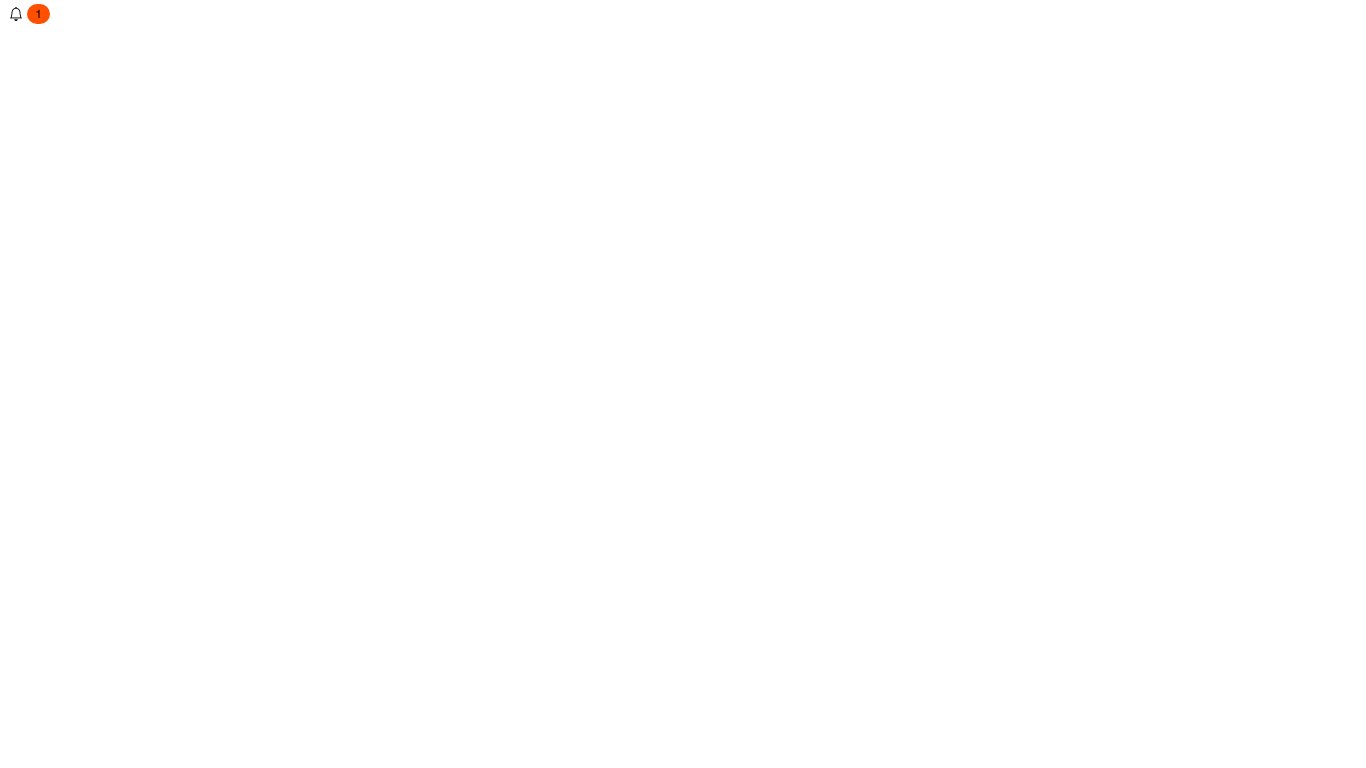
UpdatesBell › clears every update after confirming, and keeps them if you go back
Click the button named "Updates, 1 new" at (29, 16), box [0,0,59,31]
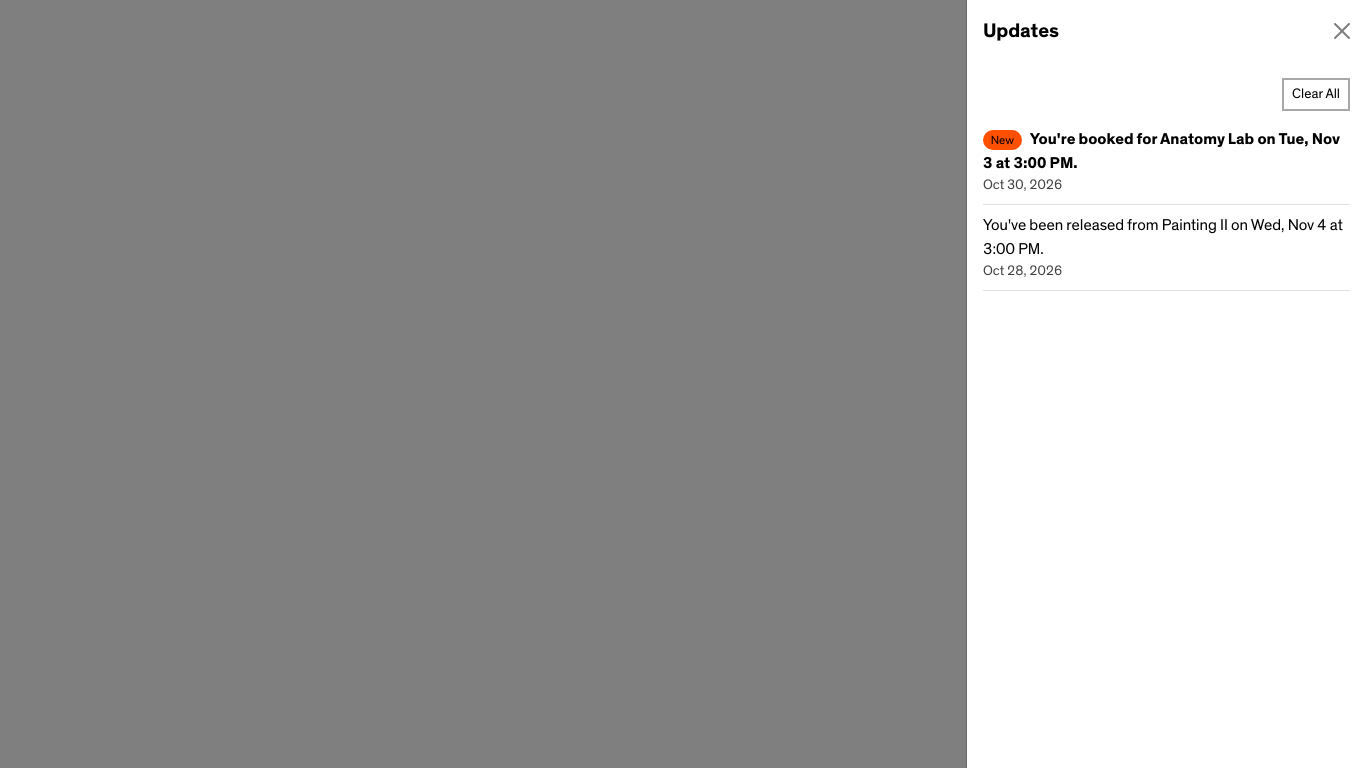
Click the button "Clear All" at (1316, 94), box [1282,78,1350,111]
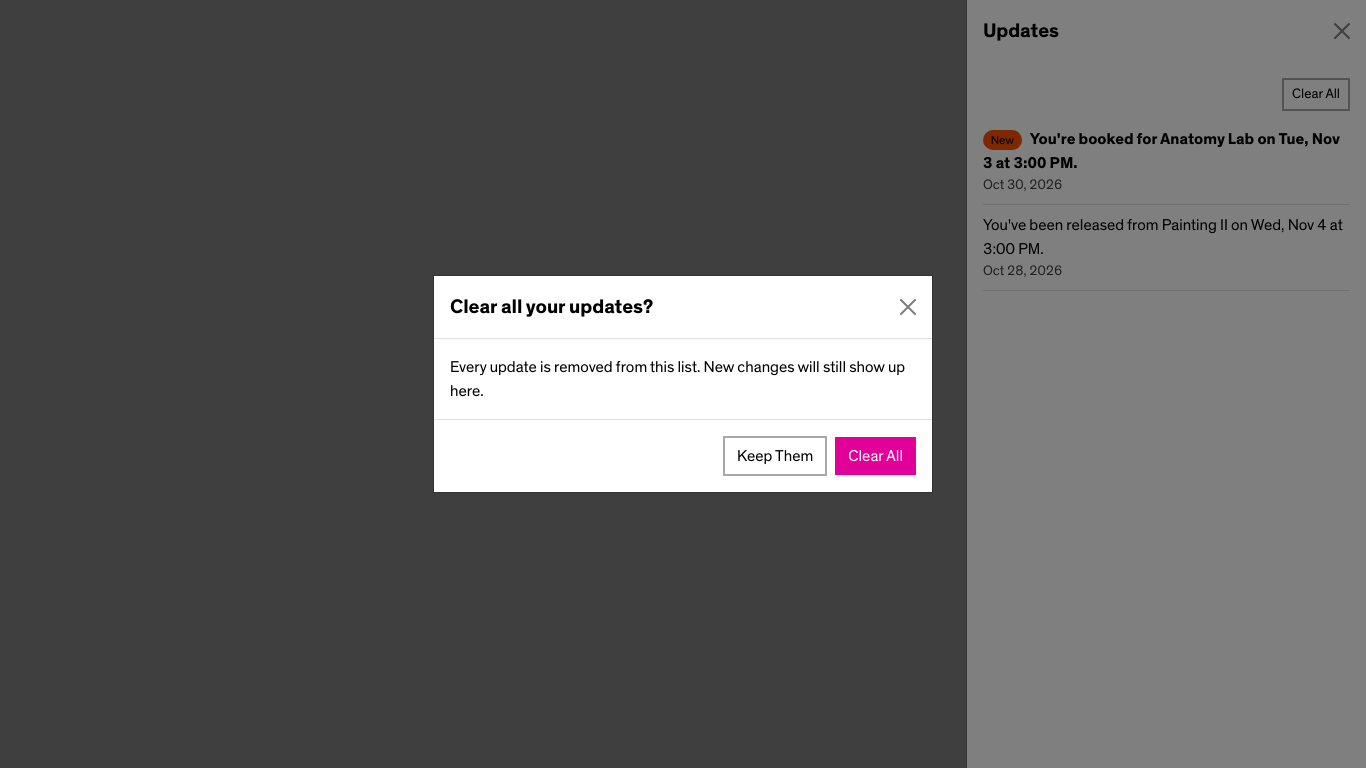
Click the button "Keep Them" at (775, 456), box [723,436,827,476]
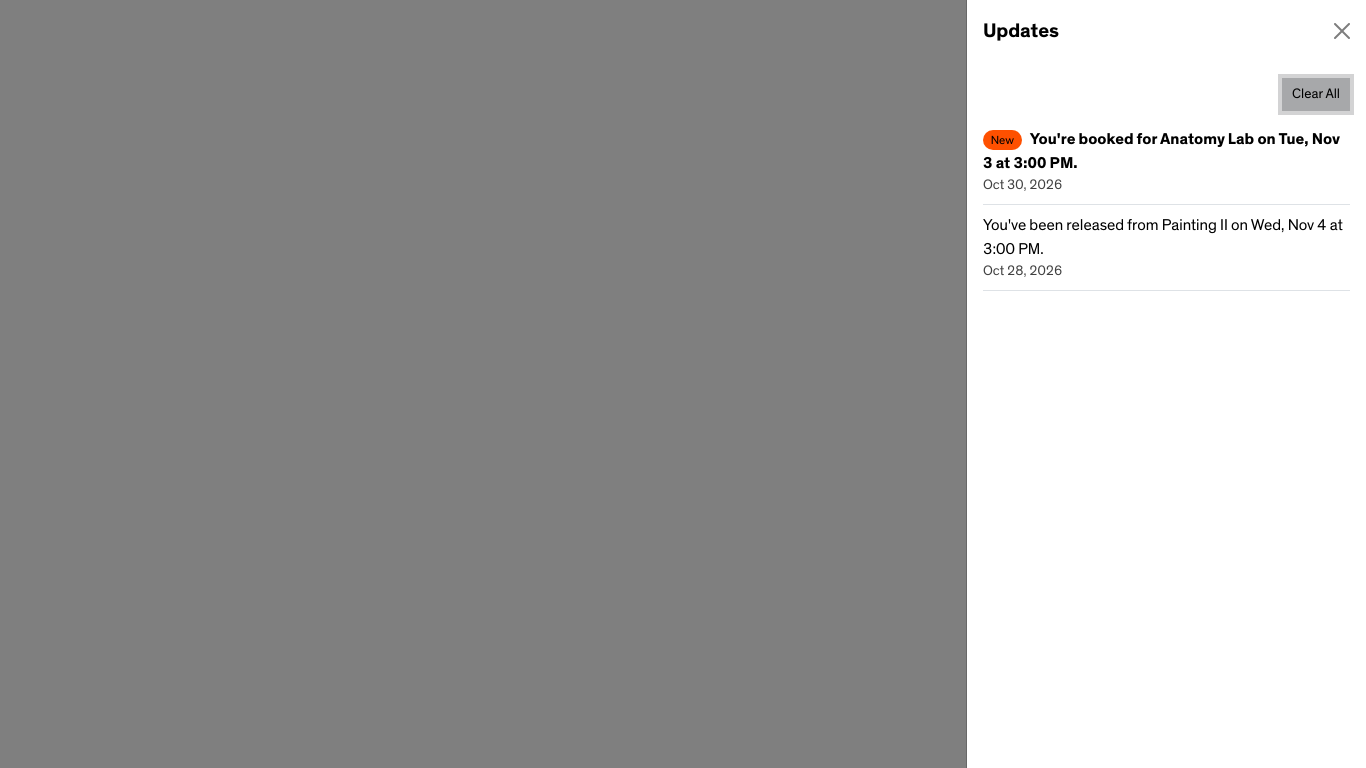
Check: the number of list items is 2, box [983,119,1350,205]; [983,205,1350,291]
Click the button "Clear All" at (1316, 94), box [1282,78,1350,111]
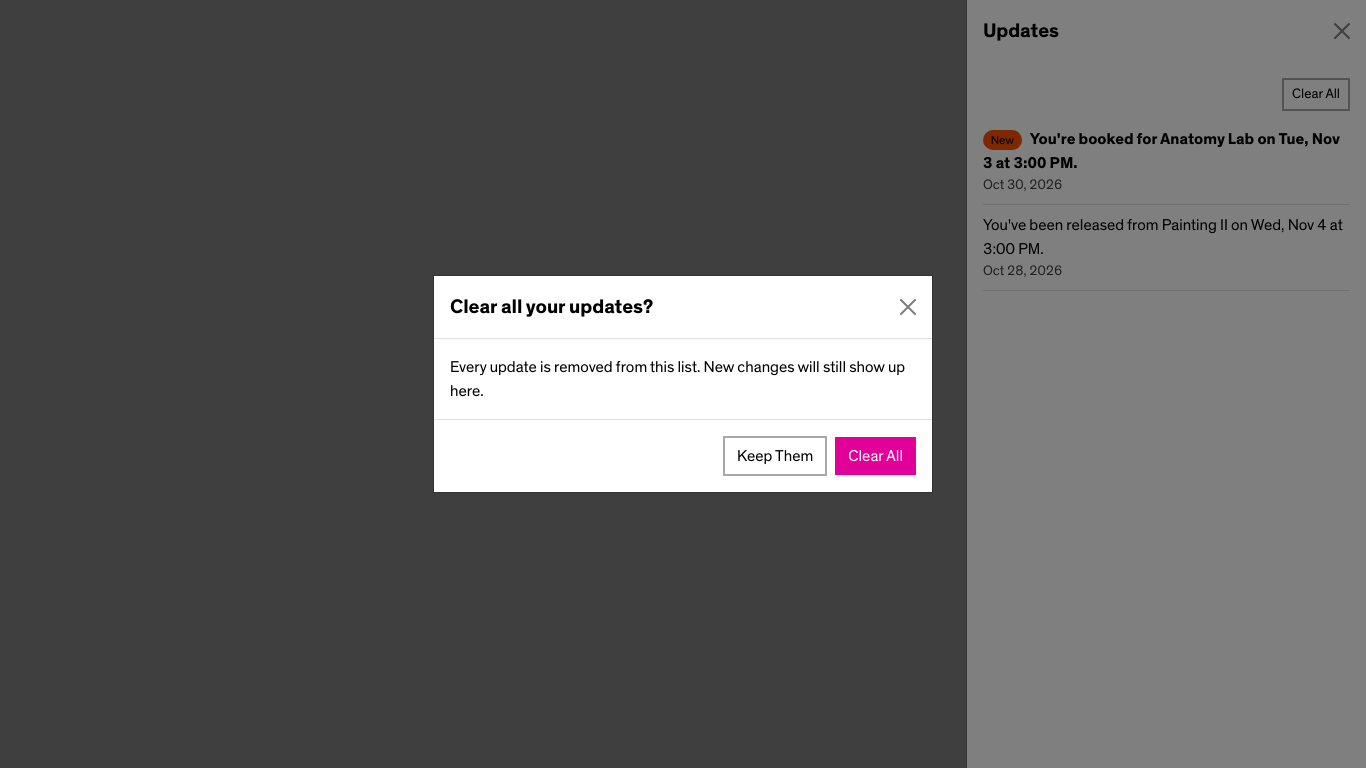
Click the button "Clear All" at (876, 456), box [835,437,916,475]
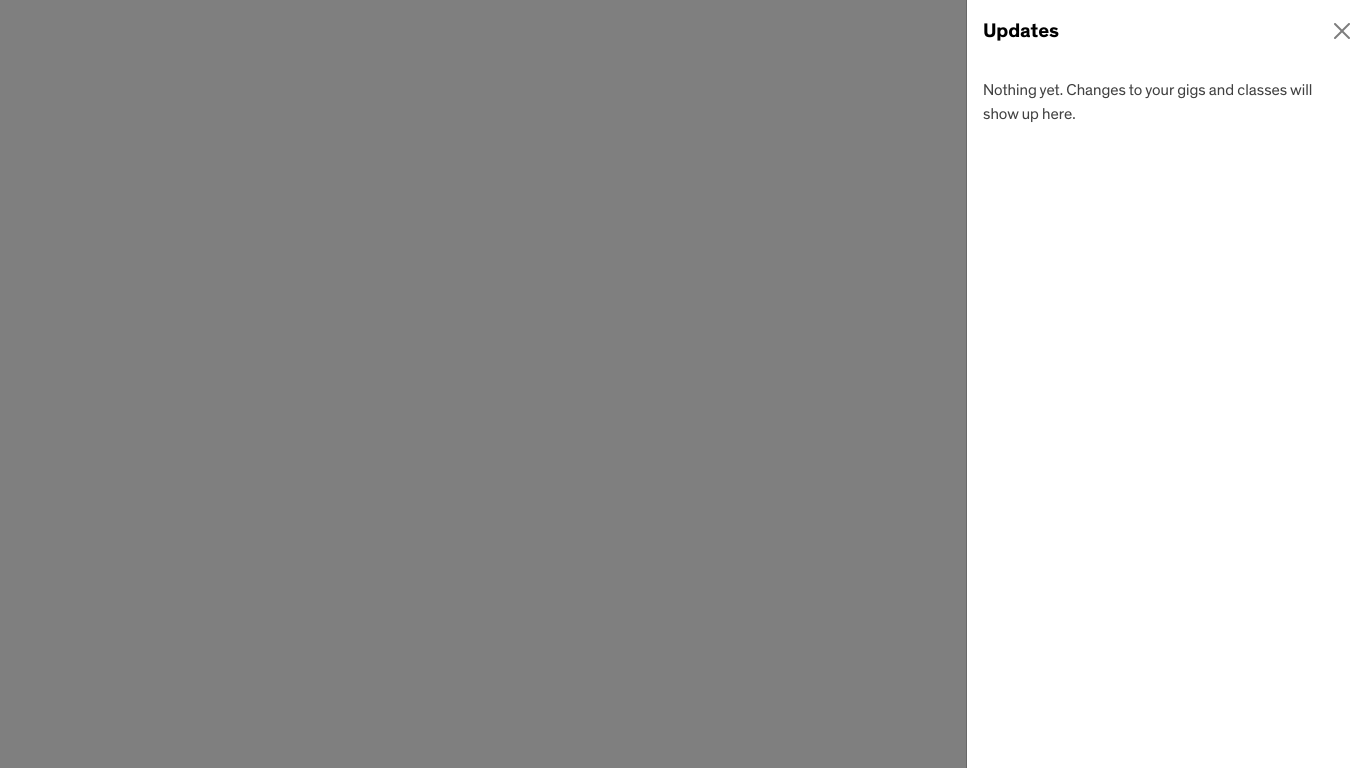
Check: the text "Nothing yet" is shown, box [983,82,1312,122]
